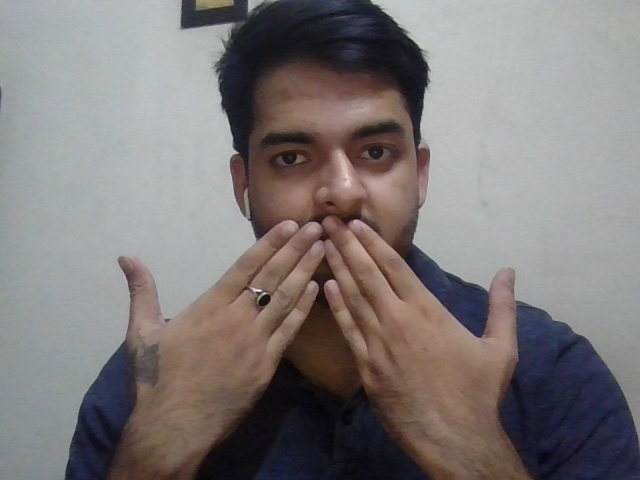thanks: (116, 216, 520, 457)
